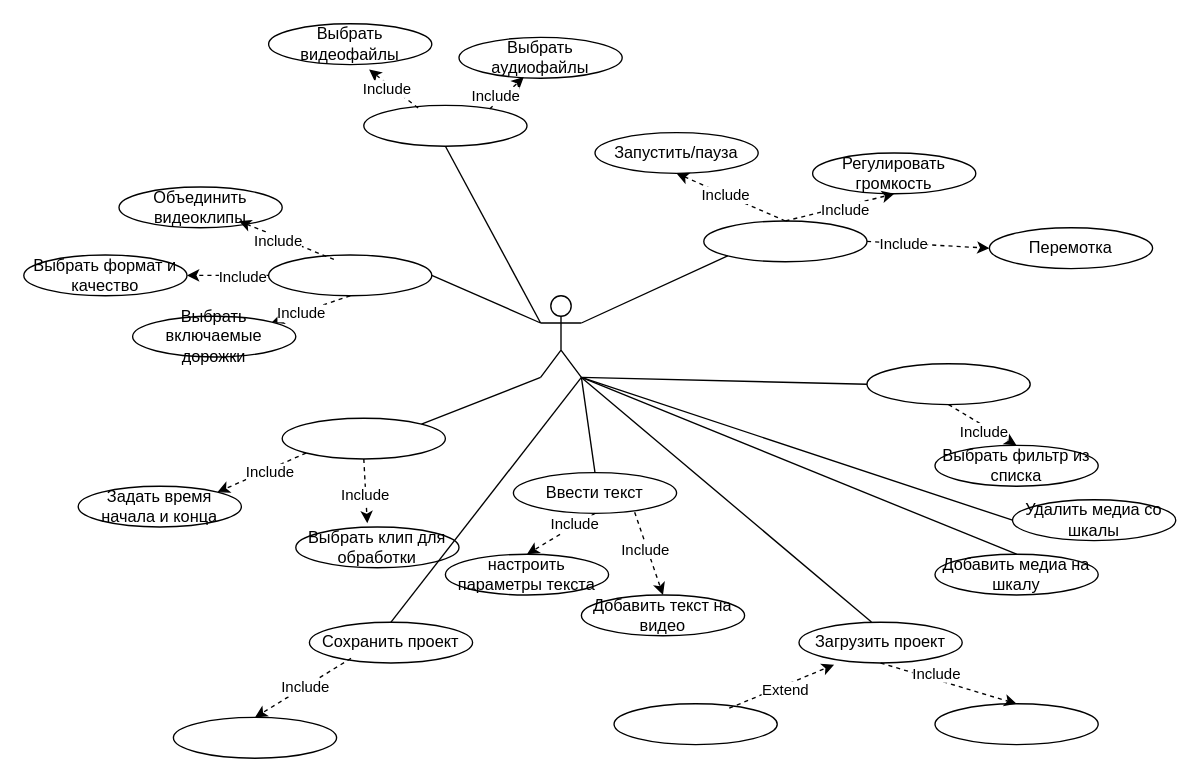
Image size: 1200x782. Some labels were removed from this diagram. The centre of each missing label's shape, as x and y in pixels:
"Actor" belongs at point (560, 335).
"Выбрать файл проекта" belongs at point (1016, 723).
"Выбрать формат файла и битрейт" belongs at point (254, 737).
"Загрузить медиафайлы" belongs at point (444, 125).
"Обрезать видеоклип" belongs at point (363, 438).
"Подтвердить недостающие файлы" belongs at point (695, 723).
"Применить фильтр к видео" belongs at point (948, 383).
"Управлять воспроизведением" belongs at point (784, 241).
"Экспортировать видео" belongs at point (349, 275).
